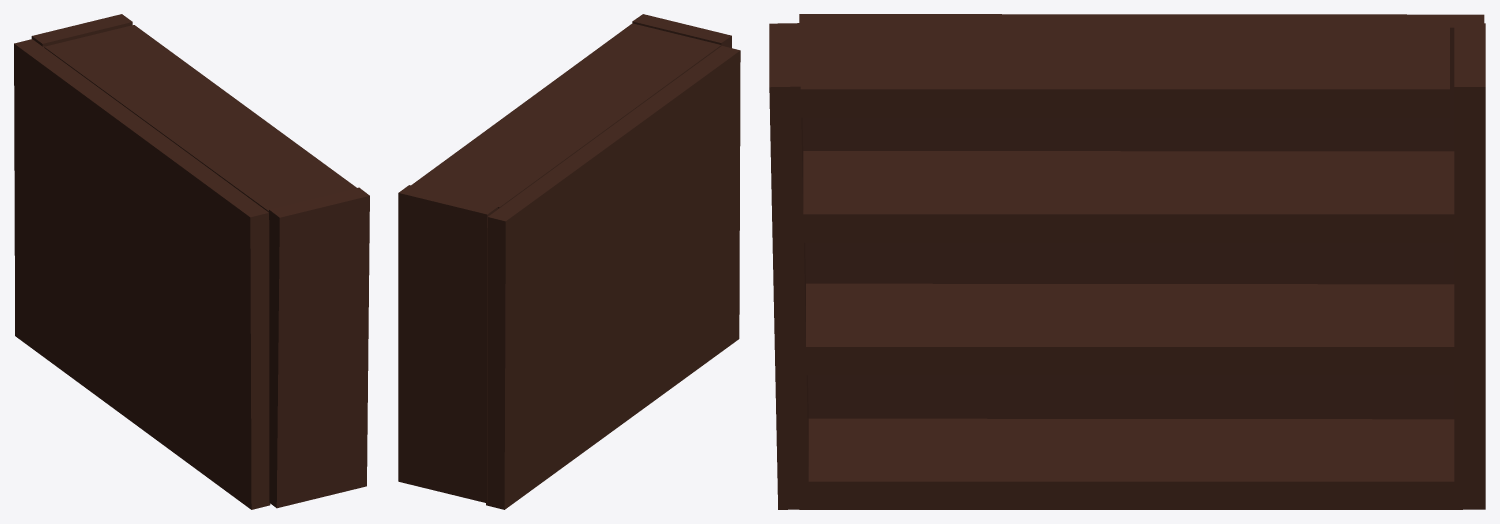
The model's file is kast.fbx.
3 renders of one model, left to right at view 1: azimuth 30°, elevation 25°; view 2: azimuth 150°, elevation 25°; view 3: azimuth 270°, elevation 25°, orthographic. The views are drawn at different scales.
Parts seen in each view (by area): view 1: Cube.004; view 2: Cube.004; view 3: Cube.004.
Boxes of the visible parts, x1,y1,x2,y2 form: Cube.004: (14, 14, 369, 509); Cube.004: (398, 14, 740, 509); Cube.004: (769, 14, 1485, 509).
Bounding box in the file's own units: 242 × 627 × 953.
